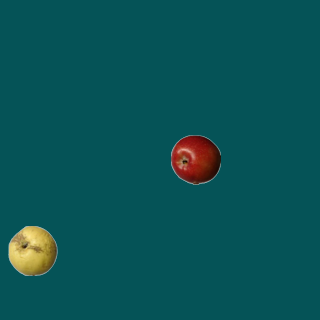Apple Braeburn: (170, 134, 220, 184)
Apple Golden 1: (7, 225, 57, 275)
